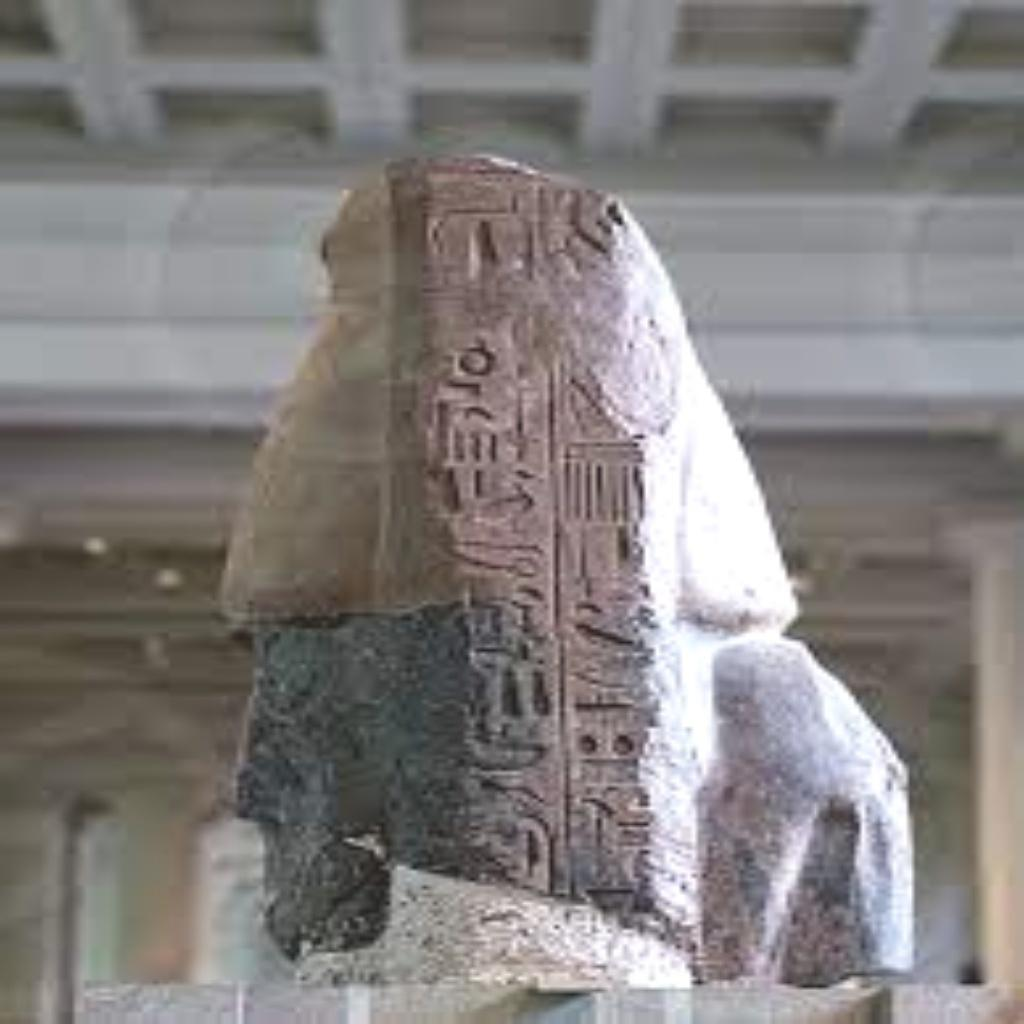bust of Ramesses II: (212, 146, 918, 988)
